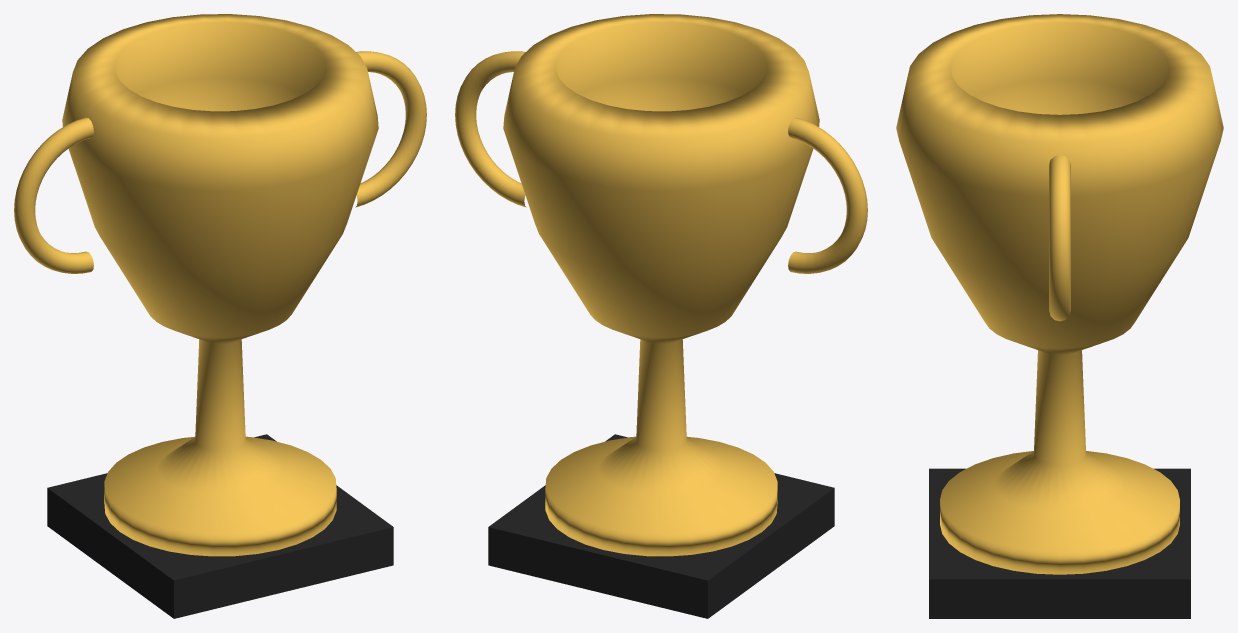
The model's file is trophy.glb.
3 renders of one model, left to right at view 1: azimuth 30°, elevation 25°; view 2: azimuth 150°, elevation 25°; view 3: azimuth 270°, elevation 25°, orthographic. The views are drawn at different scales.
Size of the model in its own units: 2.24 by 2.5 by 1.5.
